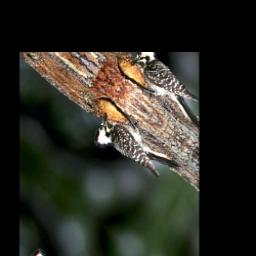Woodpecker: (88, 98, 184, 202)
